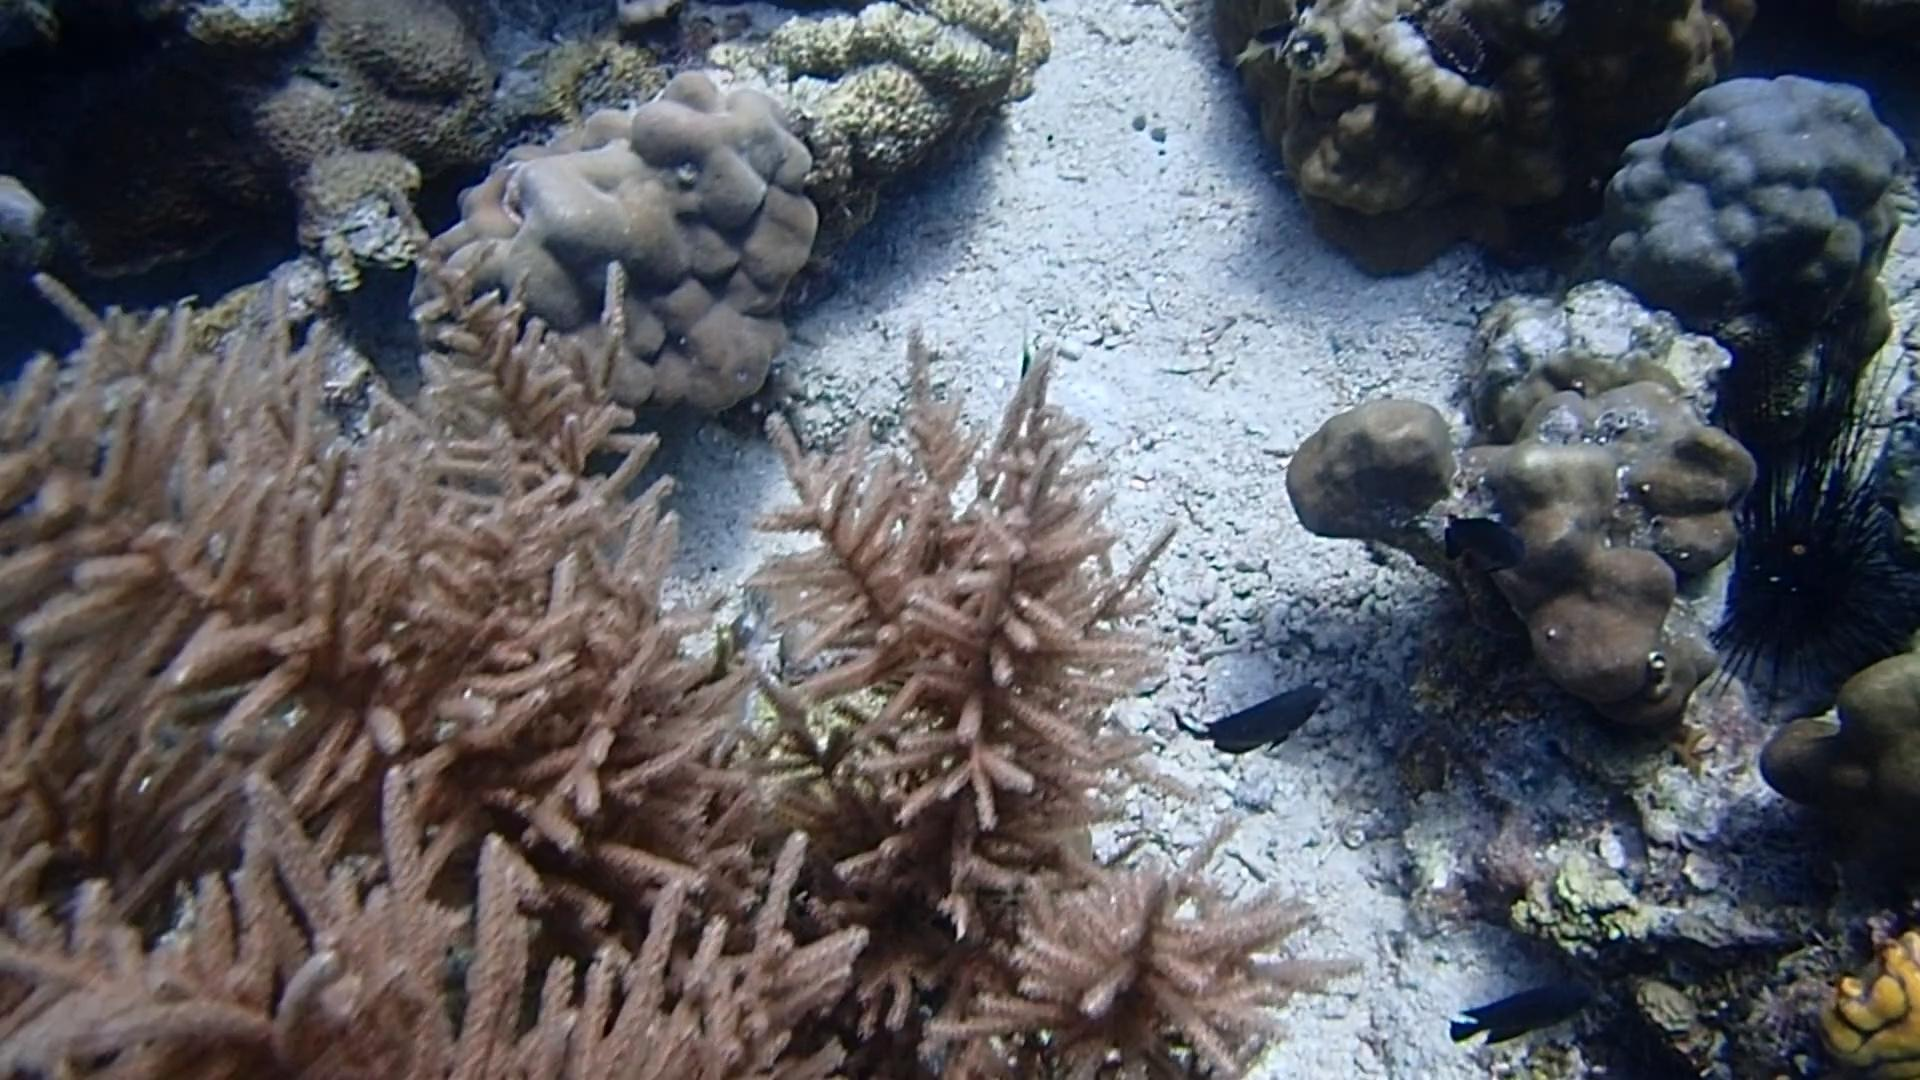Dark Fish: (1168, 675, 1344, 781), (1436, 978, 1593, 1048), (1432, 504, 1531, 579)
Yellow Tail: (1222, 8, 1313, 80), (1004, 322, 1043, 396)
